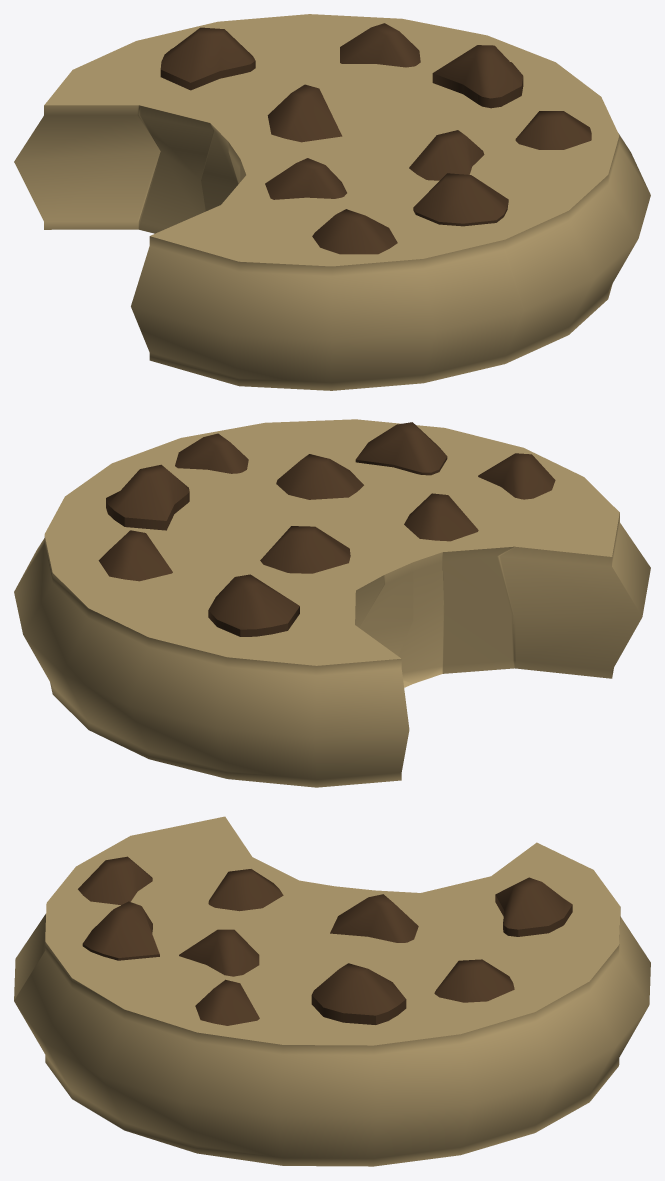
The model's file is galleta.fbx.
3 renders of one model, top to bottom at view 1: azimuth 30°, elevation 25°; view 2: azimuth 150°, elevation 25°; view 3: azimuth 270°, elevation 25°, orthographic. The views are drawn at different scales.
Parts seen in each view (by area): view 1: pCube41; view 2: pCube41; view 3: pCube41.
Boxes of the visible parts, x1,y1,x2,y2 form: pCube41: (14,14,650,390); pCube41: (14,419,650,787); pCube41: (14,816,650,1166).
Bounding box in the file's own units: 0.8737 × 0.2556 × 0.9273.
